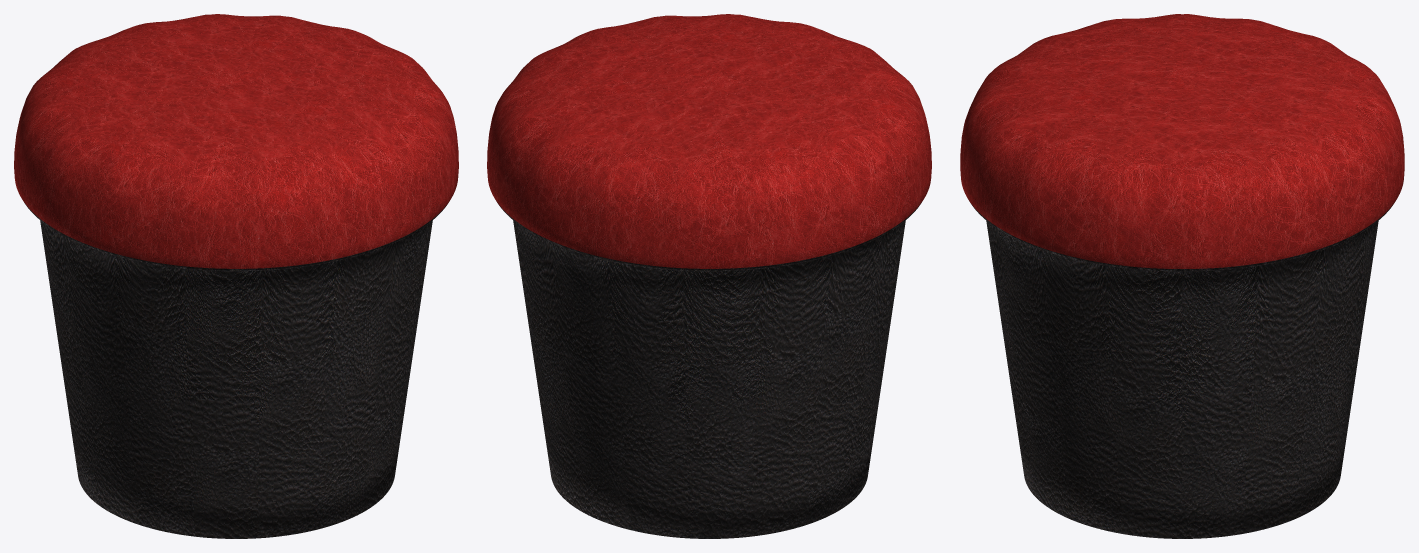
File: Seat.fbx
3 renders of one model, left to right at view 1: azimuth 30°, elevation 25°; view 2: azimuth 150°, elevation 25°; view 3: azimuth 270°, elevation 25°, orthographic.
Visible parts, largest first — view 1: hocker_schwarz; view 2: hocker_schwarz; view 3: hocker_schwarz.
Part boxes in pixels (x1=…): hocker_schwarz: x1=14, y1=14, x2=458, y2=538; hocker_schwarz: x1=487, y1=14, x2=931, y2=538; hocker_schwarz: x1=960, y1=14, x2=1404, y2=538.
Size of the model in its own units: 0.841 by 0.8231 by 0.841.
